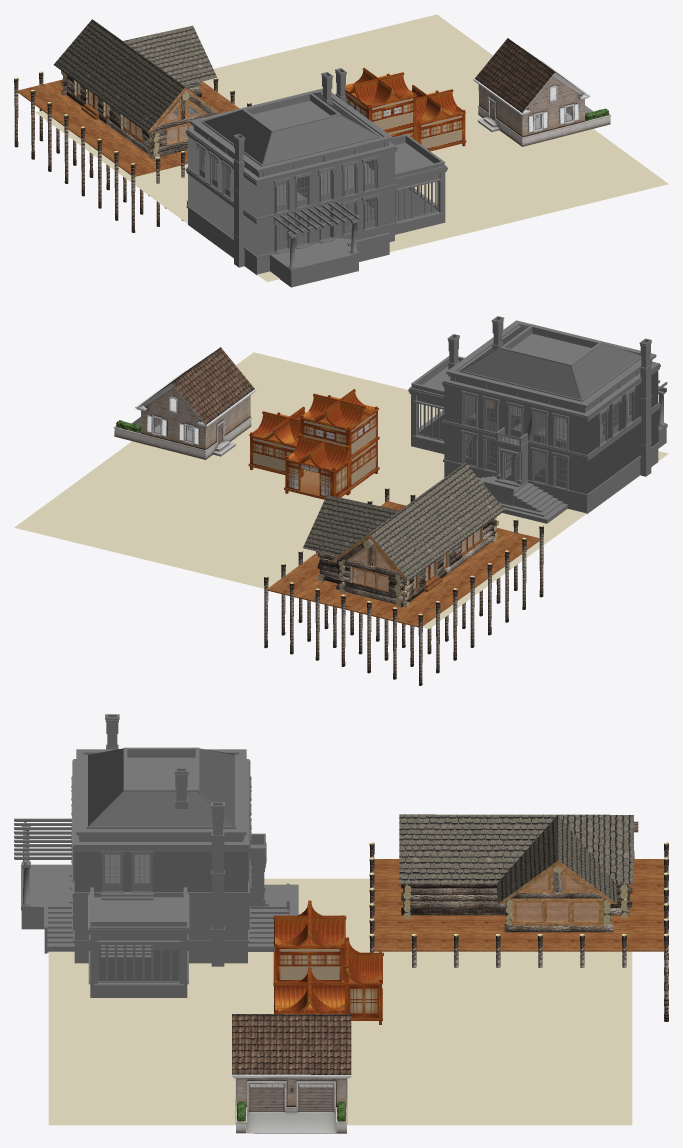
3 renders of one model, top to bottom at view 1: azimuth 30°, elevation 25°; view 2: azimuth 150°, elevation 25°; view 3: azimuth 270°, elevation 25°, orthographic. The views are drawn at different scales.
Visible parts, largest first — view 1: _second spaces shop_LUTON Manor - REDGRAVE (v1.0) (×21), Terrain 4,1, Loghouse, prim0-mesh_0 (×3), Jewel Box House V17 with Stairs, Cube_0#1, Cube_0, mure.001_0, pignond_0, SOL_0; view 2: Terrain 4,1, _second spaces shop_LUTON Manor - REDGRAVE (v1.0) (×13), Loghouse, Jewel Box House V17 with Stairs, prim0-mesh_0 (×3), Cube_0, Cube_0#1, mure.001_0, fentre_0, SOL_0; view 3: Terrain 4,1, _second spaces shop_LUTON Manor - REDGRAVE (v1.0) (×21), Loghouse, prim0-mesh_0 (×5), Cube_0#1, Jewel Box House V17 with Stairs, mure.001_0, Roof (×3), fentre_0, Cube_0, SOL_0.
Boxes of the visible parts, x1,y1,x2,y2 form: _second spaces shop_LUTON Manor - REDGRAVE (v1.0) (×21): (185,88,447,287); Terrain 4,1: (36,14,668,281); Loghouse: (53,19,220,132); prim0-mesh_0 (×3): (473,38,611,146); Jewel Box House V17 with Stairs: (345,68,466,151); Cube_0#1: (17,79,239,176); Cube_0: (14,71,251,232); mure.001_0: (61,70,216,159); pignond_0: (159,98,206,145); SOL_0: (79,87,192,142); Terrain 4,1: (14,352,668,628); _second spaces shop_LUTON Manor - REDGRAVE (v1.0) (×13): (408,320,660,523); Loghouse: (303,463,504,580); Jewel Box House V17 with Stairs: (248,389,379,499); prim0-mesh_0 (×3): (113,347,256,459); Cube_0: (264,487,543,685); Cube_0#1: (268,501,540,627); mure.001_0: (317,517,499,607); fentre_0: (348,545,396,591); SOL_0: (355,532,478,592); Terrain 4,1: (48,878,632,1125); _second spaces shop_LUTON Manor - REDGRAVE (v1.0) (×21): (14,747,298,997); Loghouse: (399,814,633,903); prim0-mesh_0 (×5): (232,1014,351,1133); Cube_0#1: (374,859,664,951); Jewel Box House V17 with Stairs: (274,901,382,1024); mure.001_0: (401,821,638,932); Roof (×3): (274,918,382,1013); fentre_0: (511,869,603,925); Cube_0: (369,842,668,1021); SOL_0: (516,874,620,921).
Size of what is drawn, in the model's own units: 67.84 by 28.09 by 71.85.
Materials: 161 (158 with a texture image).
